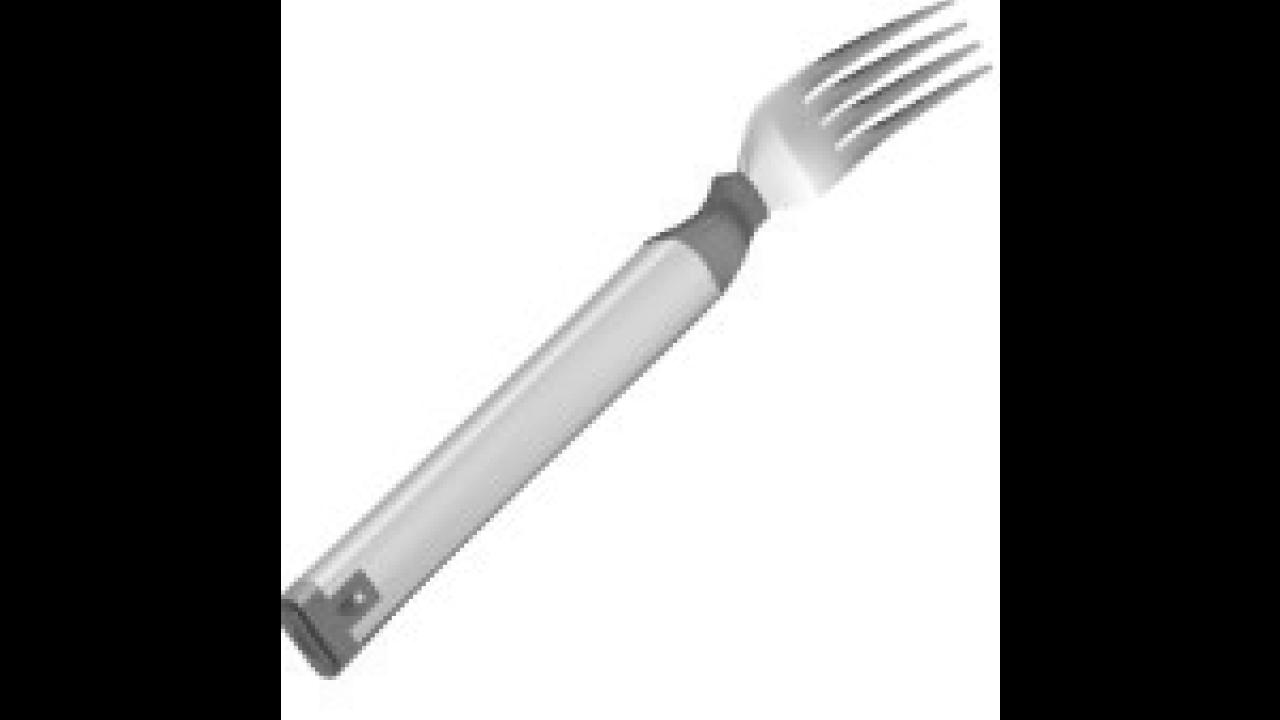fork: (284, 0, 996, 680)
